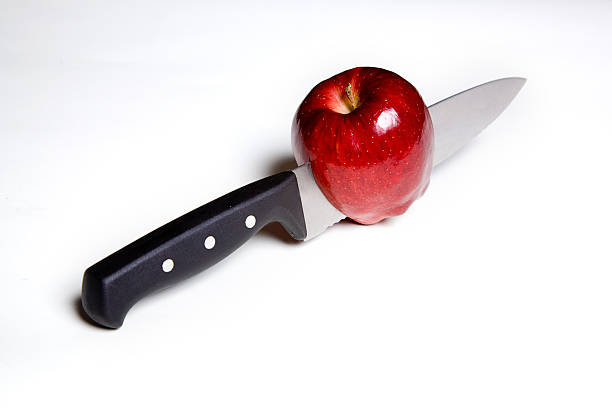knife: (79, 75, 529, 332)
